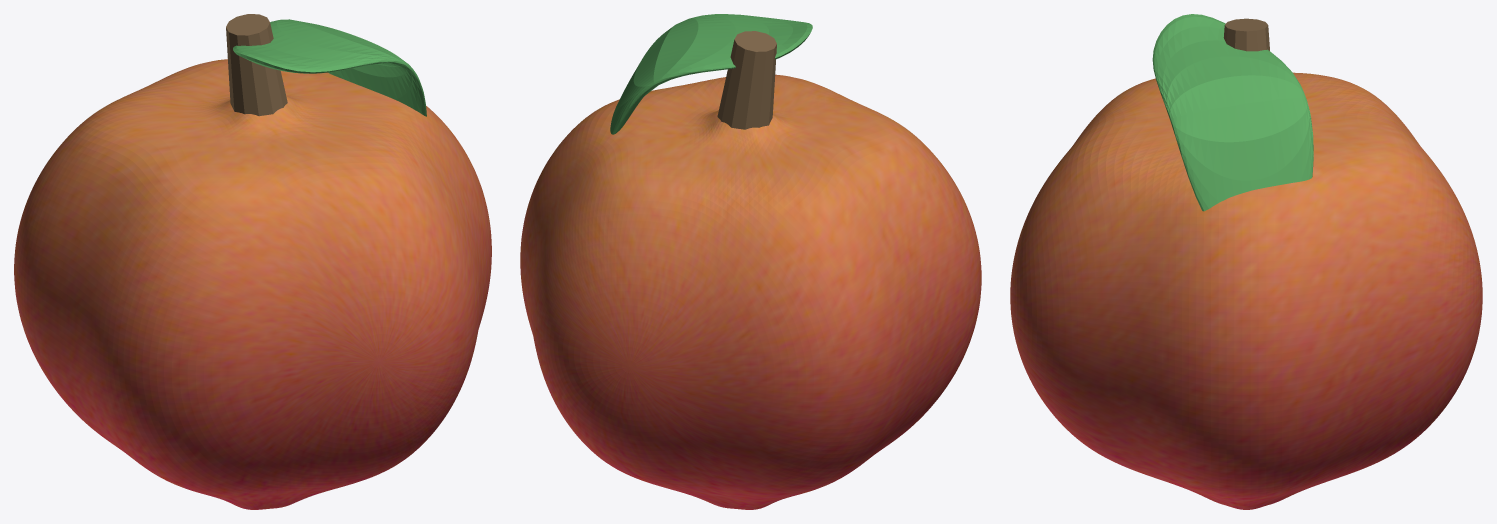
The model's file is apple.glb.
The picture shows the model from 3 angles, left to right: view 1: azimuth 30°, elevation 25°; view 2: azimuth 150°, elevation 25°; view 3: azimuth 270°, elevation 25°; orthographic projection. The views are drawn at different scales.
Visible parts, largest first — view 1: geometry_0, geometry_2, geometry_1; view 2: geometry_0, geometry_2, geometry_1; view 3: geometry_0, geometry_2, geometry_1.
Boxes of the visible parts, x1,y1,x2,y2 form: geometry_0: (14,59,491,509); geometry_2: (233,19,426,116); geometry_1: (226,14,287,116); geometry_0: (520,74,981,509); geometry_2: (610,14,812,134); geometry_1: (717,31,776,129); geometry_0: (1010,72,1482,509); geometry_2: (1152,14,1313,211); geometry_1: (1223,18,1269,51).
Bounding box in the file's own units: 0.0701 × 0.0788 × 0.0716.
